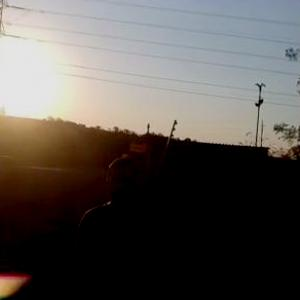follow: (62, 150, 160, 299)
